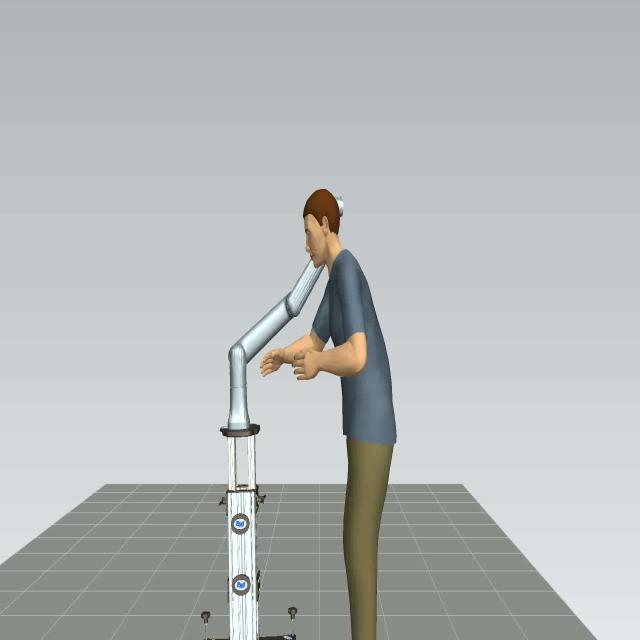human: (259, 187, 397, 638)
robot: (216, 187, 348, 461)
